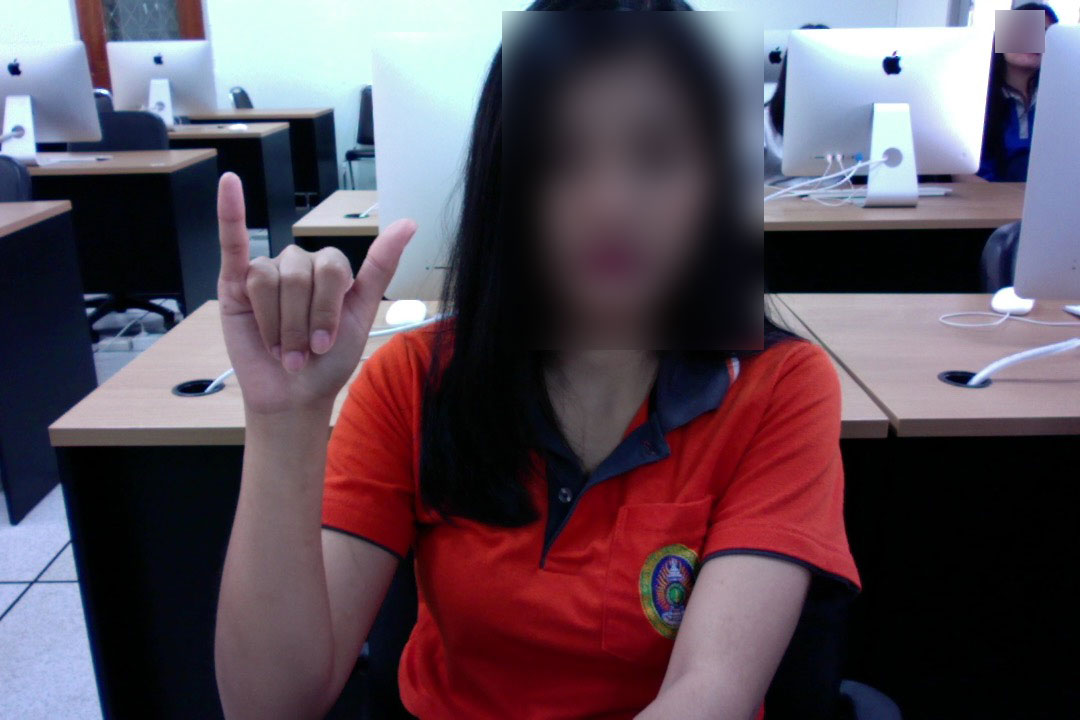yor: (212, 163, 420, 451)
